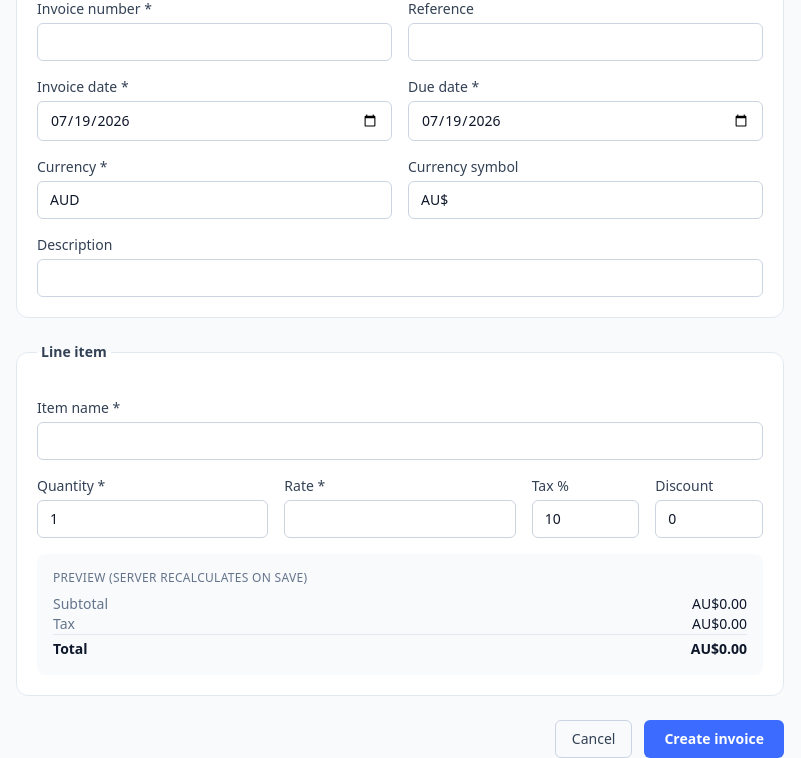
Scenario: CreateInvoicePage › shows validation errors when required fields are missing
(page scrolled)
Click the button "Create invoice" at (714, 739), box [644,720,784,757]
(page scrolled)
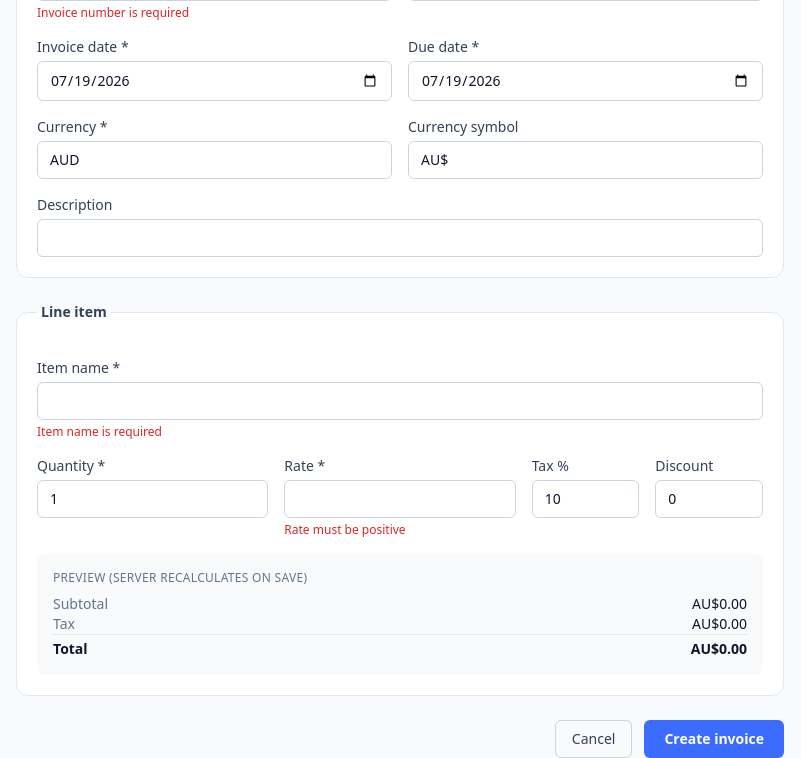
Expected: the text "Invoice number is required" is shown, [37,4,189,21]
Expected: the text "Item name is required" is shown, [37,423,162,440]
